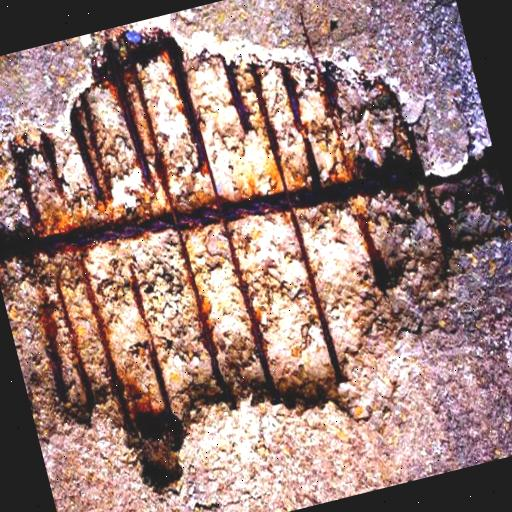spalling: (0, 23, 512, 495)
